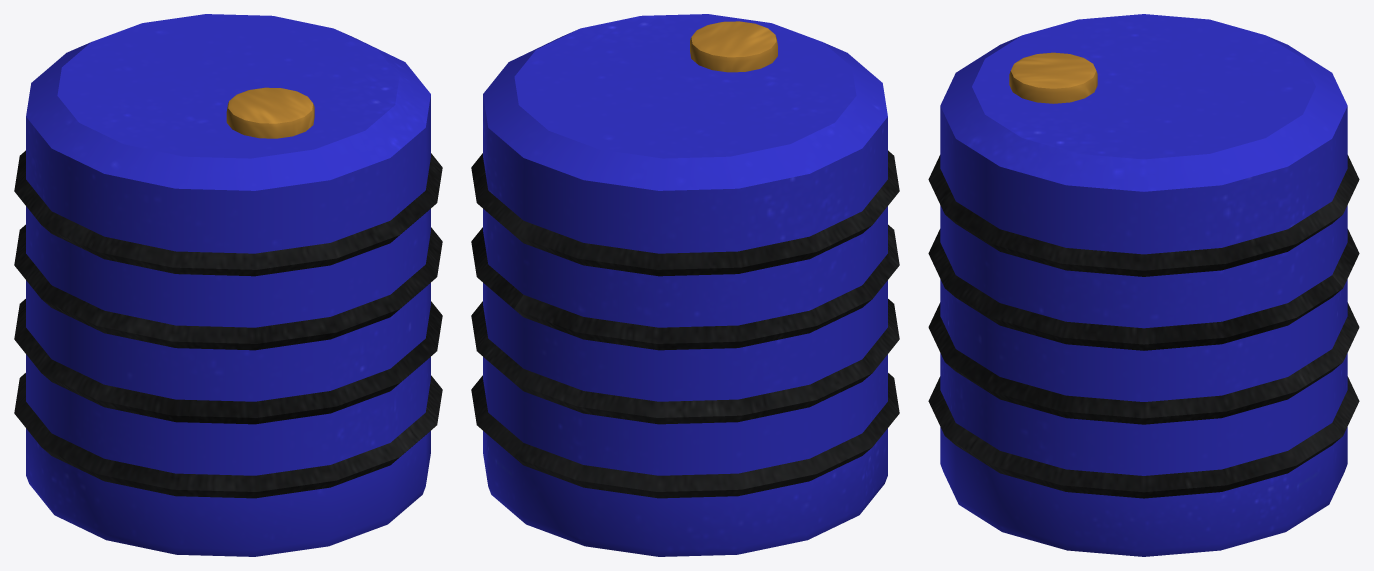
The model's file is waterBarrel.fbx.
3 renders of one model, left to right at view 1: azimuth 30°, elevation 25°; view 2: azimuth 150°, elevation 25°; view 3: azimuth 270°, elevation 25°, orthographic.
Visible parts, largest first — view 1: Cylinder003; view 2: Cylinder003; view 3: Cylinder003.
Boxes of the visible parts, left/top/right/bottom form: Cylinder003: left=14, top=14, right=442, bottom=556; Cylinder003: left=471, top=14, right=899, bottom=556; Cylinder003: left=928, top=14, right=1359, bottom=556.
Bounding box in the file's own units: 106 × 109 × 106.
